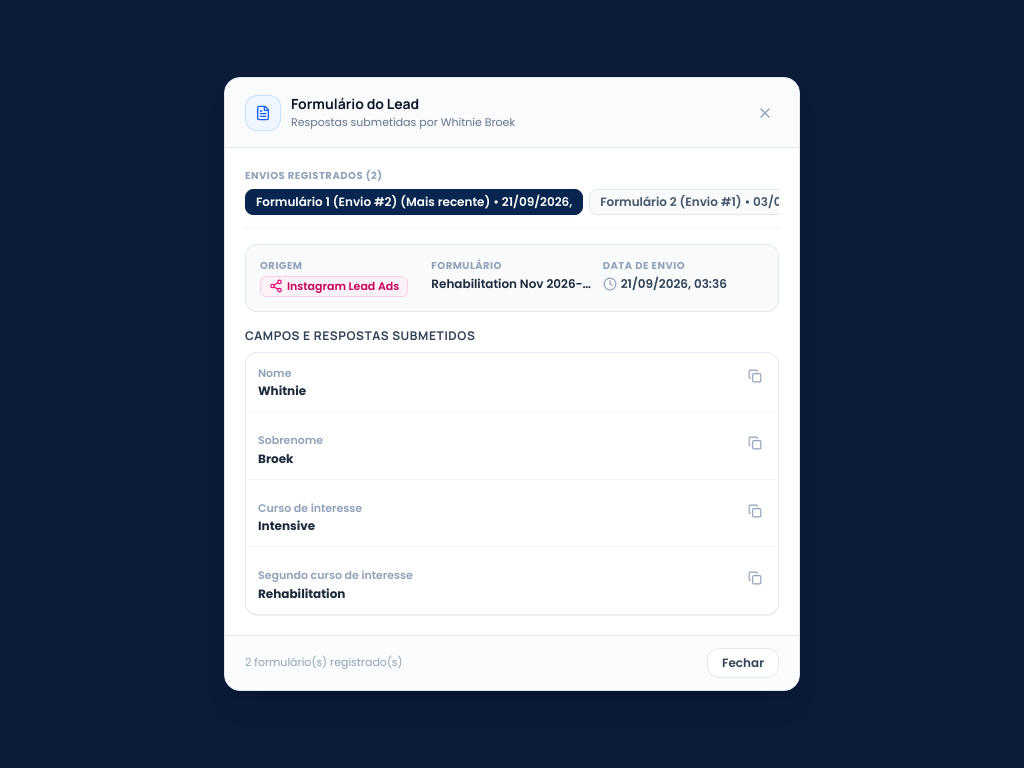
Test: Lead Form Traceability and Historical Recovery › E. Multiple form submissions: displays all submissions ordered newest first with navigation
Expected: the text "Envios registrados (2)" is shown, [245,168,382,183]
Expected: the text "Rehabilitation Nov 2026-Revised" is shown, [431,276,593,292]
Switch to second submission
Click the button "Formulário 2 (Envio #1) • 03/02/2026," at (713, 202), box [589,189,838,215]
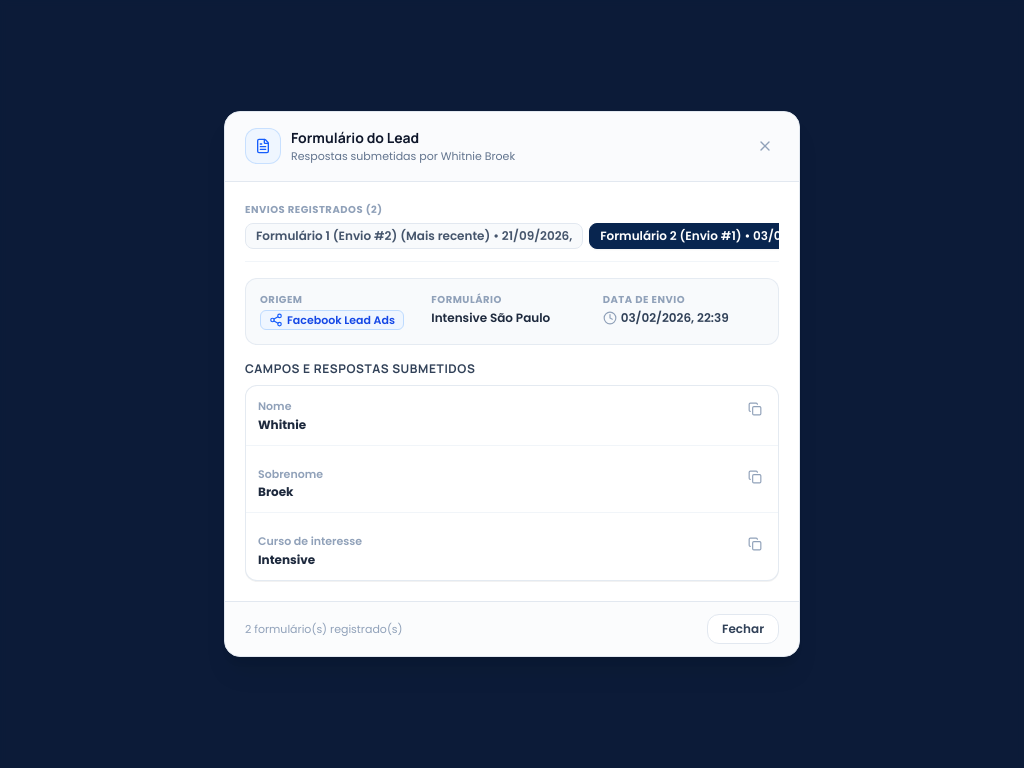
Result: the text "Intensive São Paulo" is shown at [431,309,550,326]
Result: the text "Facebook Lead Ads" is shown at [287,313,395,328]
